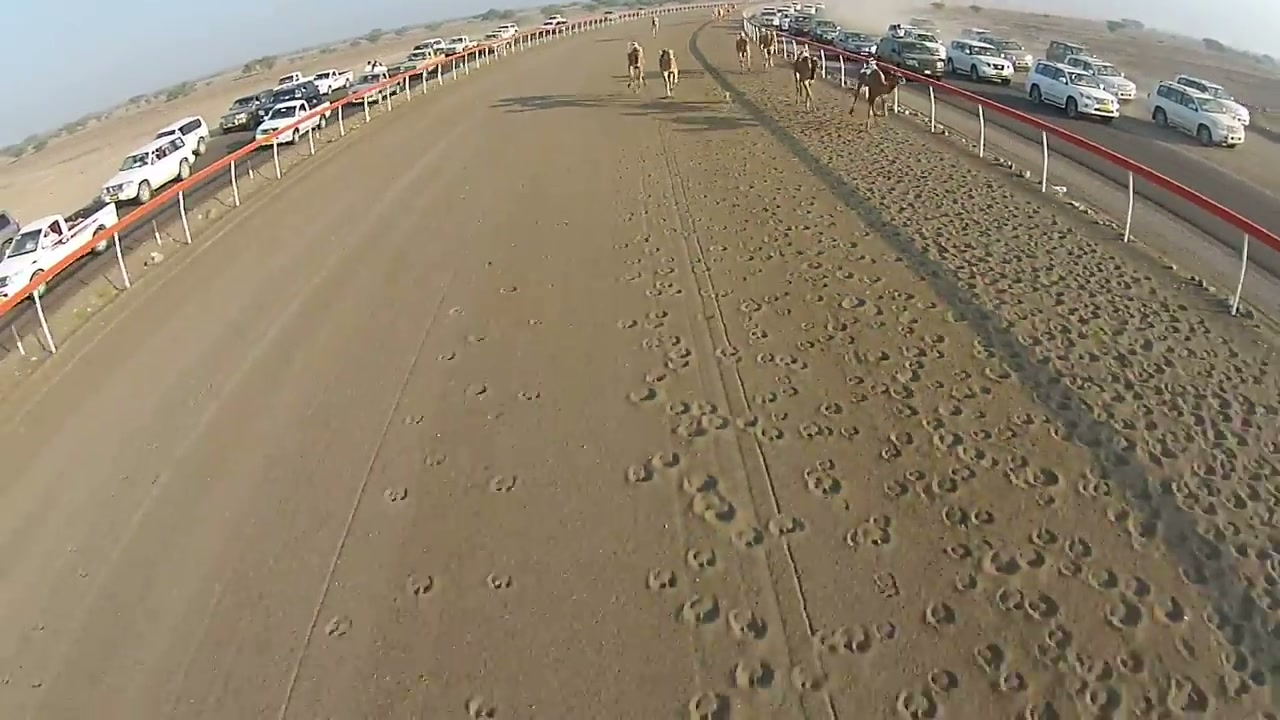animal_footprint: (673, 77, 1279, 717), (813, 625, 878, 654), (624, 451, 682, 483), (690, 488, 736, 524), (845, 515, 892, 547), (804, 461, 843, 498), (677, 595, 721, 626), (727, 608, 768, 641), (896, 689, 941, 719), (732, 658, 775, 689), (687, 691, 729, 719), (792, 663, 827, 691), (924, 600, 957, 627), (767, 514, 805, 536), (927, 668, 959, 694), (731, 525, 764, 549), (464, 695, 497, 719), (686, 548, 718, 571), (405, 575, 434, 598), (646, 568, 676, 590), (627, 386, 661, 404), (324, 615, 351, 636), (488, 475, 516, 492), (486, 573, 512, 590), (422, 450, 446, 467), (383, 486, 407, 503), (465, 383, 488, 397), (517, 390, 540, 400), (402, 416, 424, 424)
